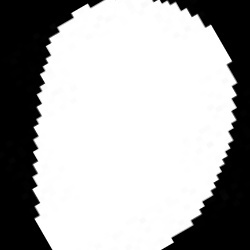spot: (34, 1, 236, 249)
